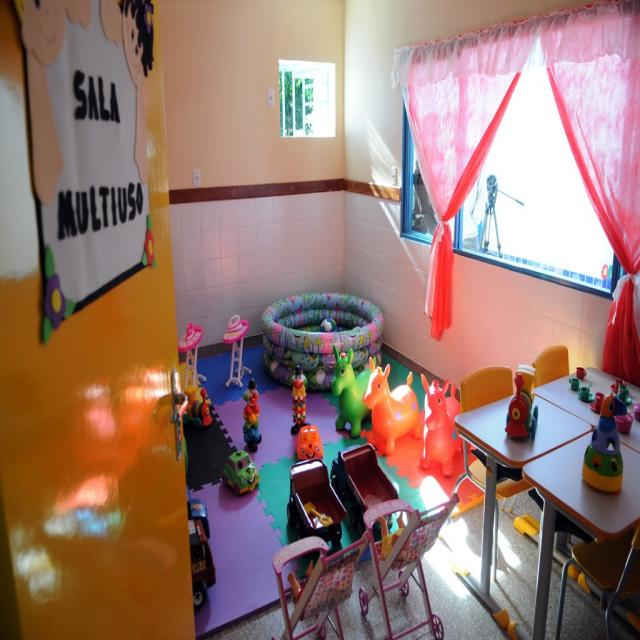chair: (336, 442, 460, 638), (555, 515, 640, 638), (272, 532, 370, 638), (288, 458, 348, 552), (532, 342, 570, 388)
desk: (457, 395, 594, 628)
